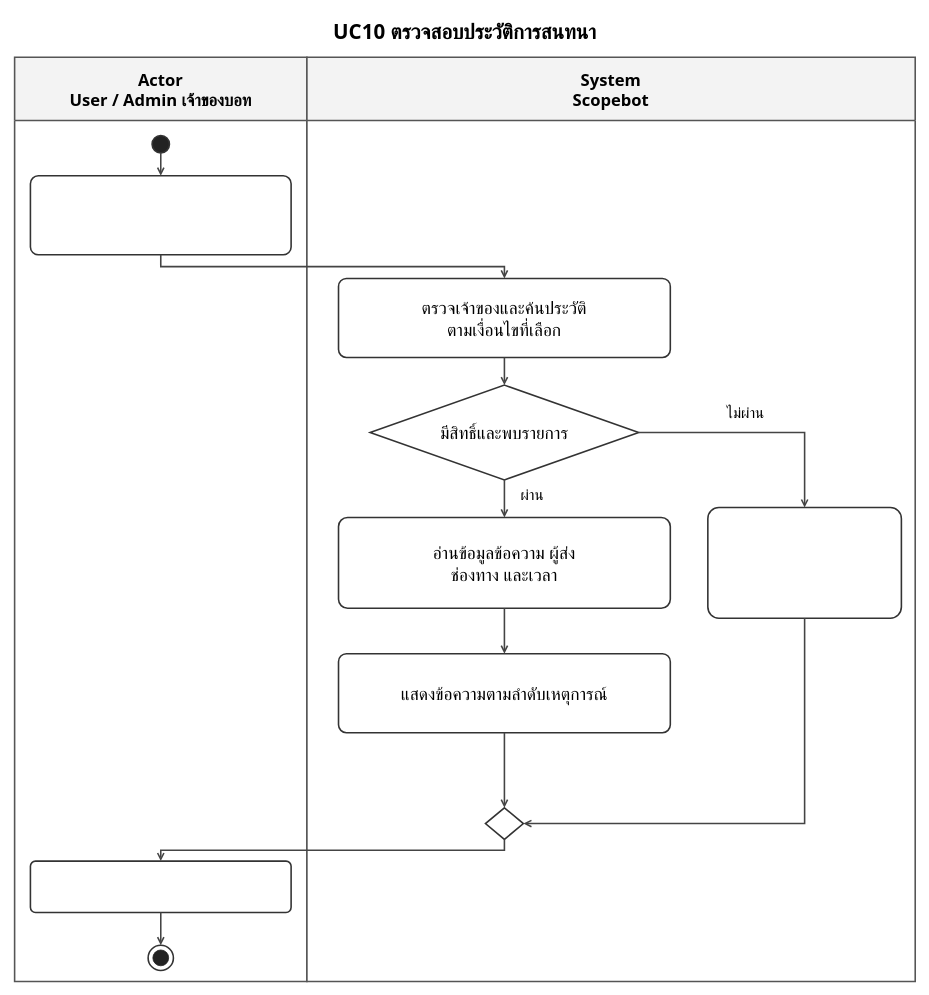
Some shapes in this 929 by 995 pixel diagram are drawn without their labels. Here are the shapes that lost their labels. From the top down, the centre of each, then its label:
At (x=160, y=215): "เลือกบอท ค้นหา และเลือกรอบสนทนา".
At (x=804, y=562): "ไม่พบ: แสดงว่าง ไม่มีสิทธิ์: ปฏิเสธ โหลดผิดพลาด: แจ้งผล".
At (x=160, y=886): "ตรวจสอบผลการดำเนินการ".
